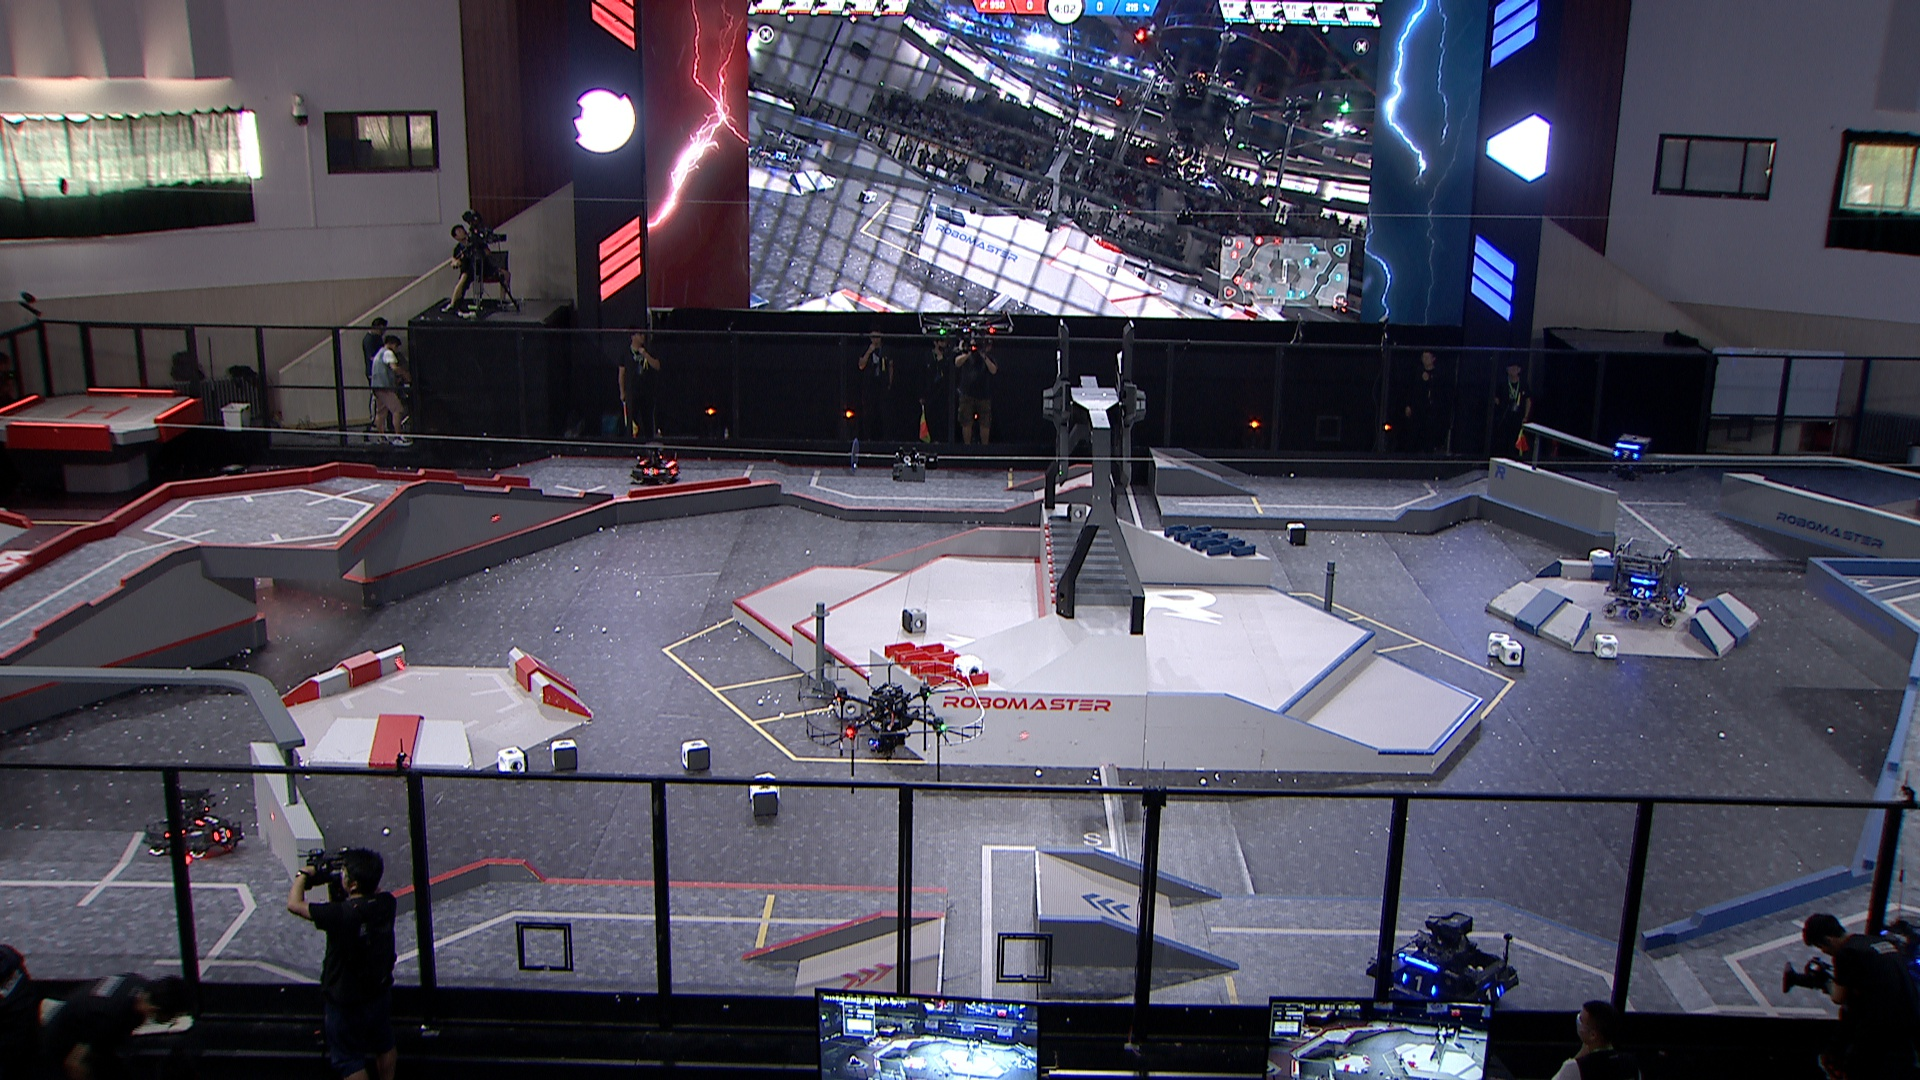armor: (1400, 972, 1439, 998), (210, 825, 235, 844), (1480, 986, 1503, 1005), (195, 815, 225, 828), (1613, 448, 1640, 462), (1396, 944, 1419, 959), (1633, 585, 1652, 599), (642, 465, 659, 477), (667, 465, 680, 476)
car: (1366, 911, 1520, 1019), (1600, 535, 1689, 628), (141, 782, 243, 858), (1859, 918, 1920, 998), (629, 440, 683, 485)
ignore: (756, 129, 802, 171)
watcher: (1607, 436, 1651, 479)
